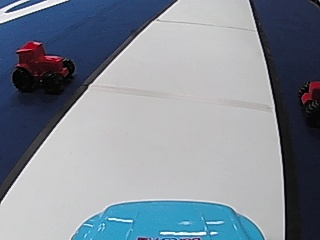tractor: (10, 38, 75, 93), (297, 80, 320, 126)
